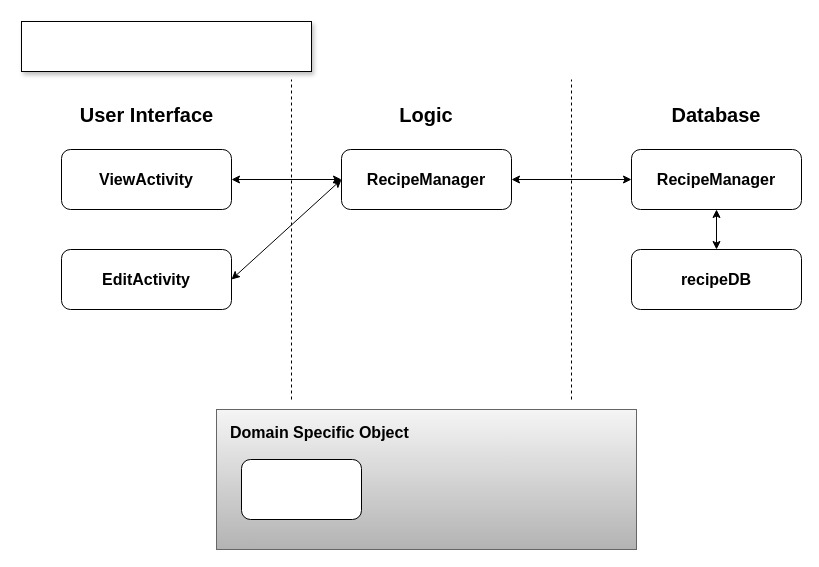
Image size: 819x567. Some labels were removed from this diagram. Each missing label, with the centre of its shape:
Iteration 1 Architecture: point 167,47
Recipe: point 301,489
